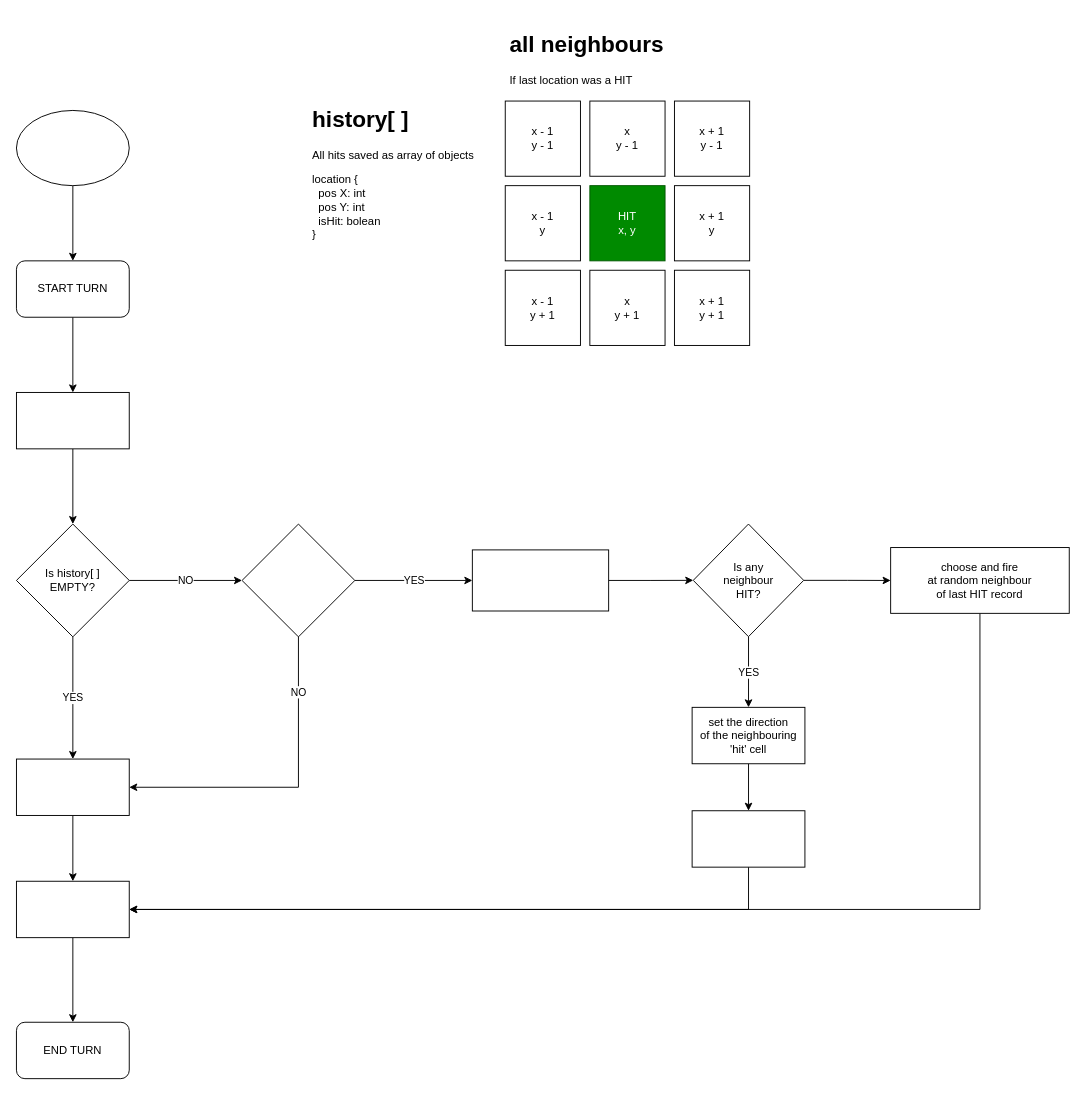
Some shapes in this 1086 by 1095 pixel diagram are drawn without their labels. The shapes that lost their labels are listed below. From the top down, each one's centre as x and y in pixels, then its label:
point 72,148: START
point 72,420: check last targeted location in history[ ]
point 298,580: Is any record a HIT?
point 540,580: check all neighbours of the last hit record
point 72,786: Fire at random location
point 748,838: fire random end of direction set by neibourhing cells
point 72,909: Add location and result to history[ ]
